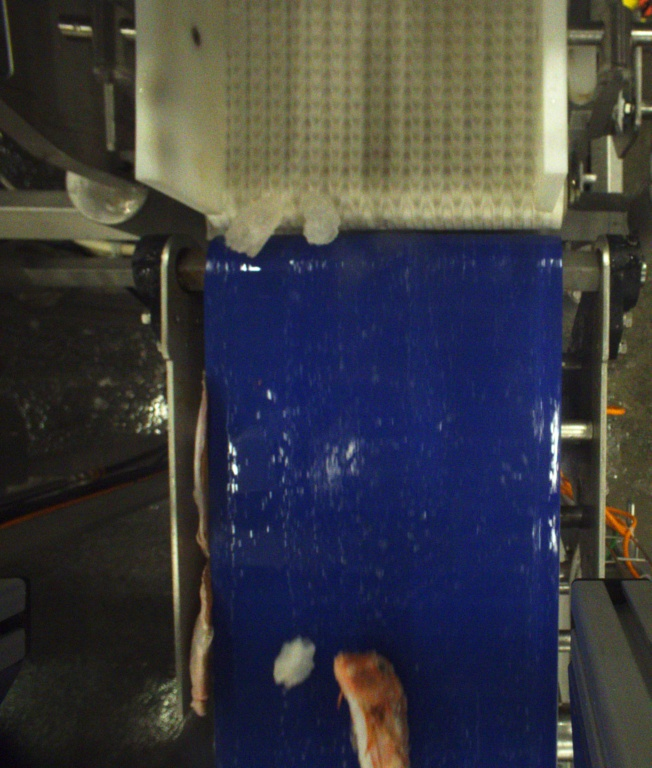GUU: (330, 648, 414, 768)
